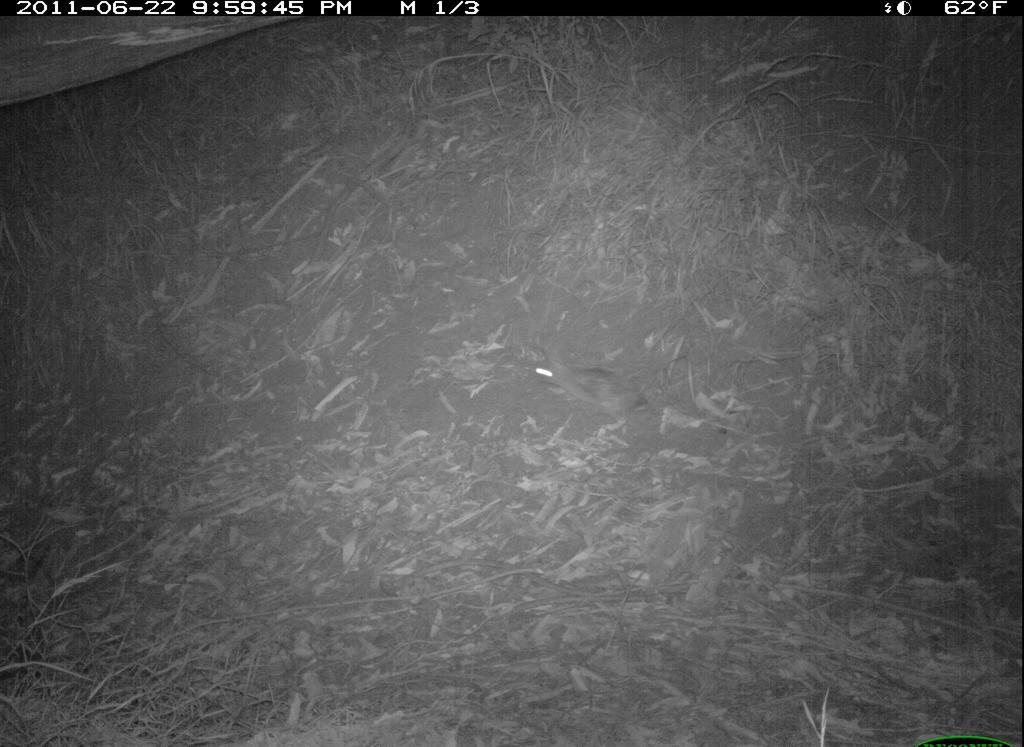rabbit: (500, 336, 657, 438)
